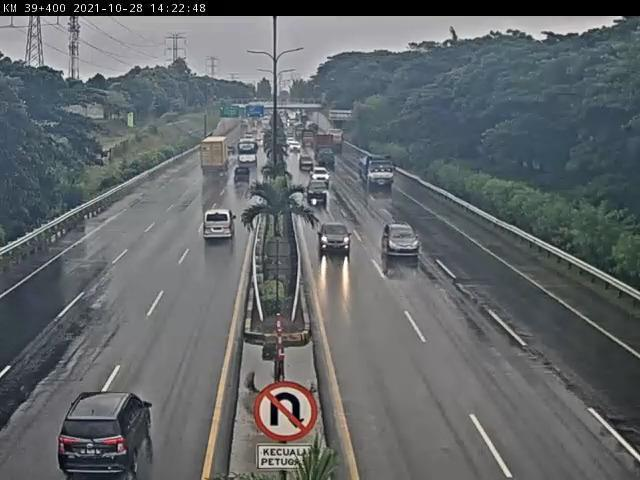truck: (357, 153, 398, 191), (199, 137, 232, 177), (315, 136, 337, 171)
